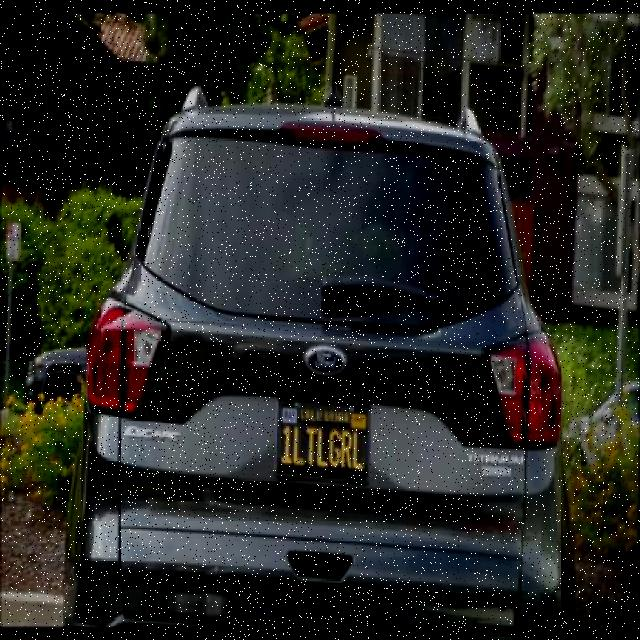licenseplate: (280, 394, 368, 484)
